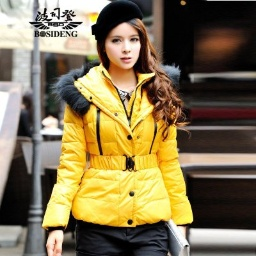face: (94, 18, 161, 83)
